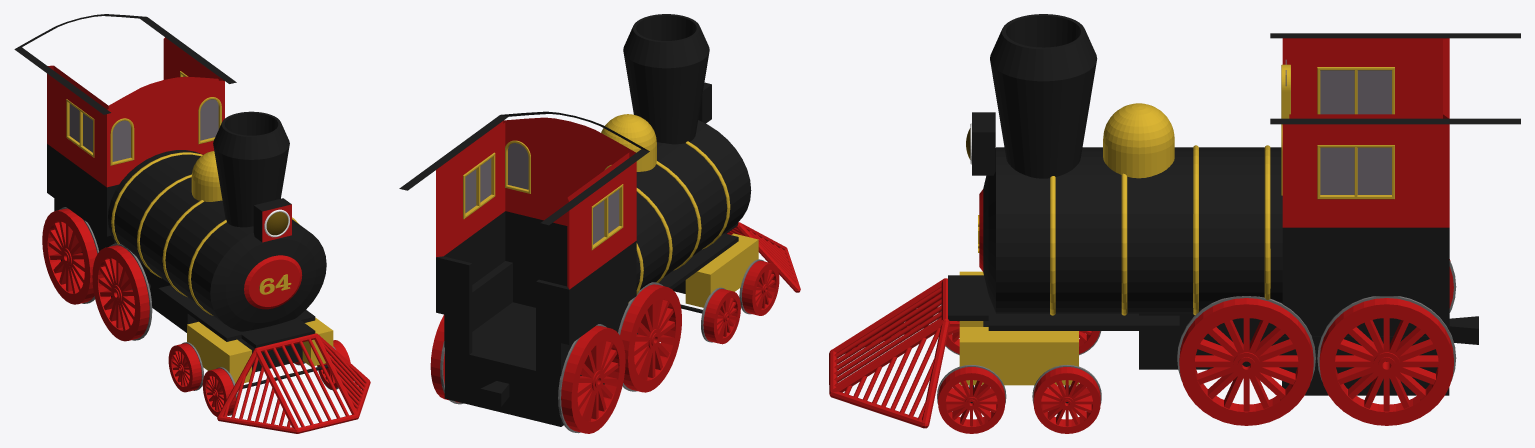
File: Engine.obj
3 views of the same model, side by side, from view 1: azimuth 30°, elevation 25°; view 2: azimuth 150°, elevation 25°; view 3: azimuth 270°, elevation 25° (orthographic). The views are drawn at different scales.
Visible parts, largest first — view 1: DarkMetal, Cabin, RedMetal, Gold, WheelBig1, WheelBig2, TurnGold, Glass, Roof, WheelSmall1, WheelSmall2, TurnDark (+2 smaller); view 2: DarkMetal, Cabin, WheelBig2, Gold, WheelBig1, Glass, TurnGold, Roof, WheelSmall1, WheelSmall2, RedMetal, RimBig2; view 3: DarkMetal, Cabin, WheelBig2, WheelBig1, Gold, RedMetal, Glass, TurnGold, WheelSmall1, WheelSmall2, Roof, RimBig2 (+1 smaller).
Boxes of the visible parts, x1=… form: DarkMetal: x1=47, y1=111, x2=326, y2=348; Cabin: x1=47, y1=37, x2=224, y2=187; RedMetal: x1=217, y1=204, x2=370, y2=433; Gold: x1=66, y1=71, x2=299, y2=315; WheelBig1: x1=92, y1=245, x2=149, y2=341; WheelBig2: x1=42, y1=208, x2=97, y2=304; TurnGold: x1=187, y1=317, x2=333, y2=383; Glass: x1=69, y1=76, x2=218, y2=161; Roof: x1=14, y1=14, x2=236, y2=114; WheelSmall1: x1=202, y1=340, x2=350, y2=416; WheelSmall2: x1=168, y1=343, x2=305, y2=392; TurnDark: x1=237, y1=338, x2=328, y2=388; DarkMetal: x1=436, y1=14, x2=751, y2=426; Cabin: x1=436, y1=117, x2=636, y2=289; WheelBig2: x1=430, y1=315, x2=625, y2=433; Gold: x1=463, y1=114, x2=730, y2=302; WheelBig1: x1=620, y1=284, x2=681, y2=392; Glass: x1=465, y1=143, x2=619, y2=244; TurnGold: x1=685, y1=233, x2=758, y2=307; Roof: x1=399, y1=111, x2=649, y2=225; WheelSmall1: x1=742, y1=260, x2=779, y2=315; WheelSmall2: x1=703, y1=289, x2=740, y2=344; RedMetal: x1=727, y1=222, x2=800, y2=292; RimBig2: x1=440, y1=324, x2=606, y2=433; DarkMetal: x1=948, y1=14, x2=1478, y2=395; Cabin: x1=1282, y1=38, x2=1449, y2=227; WheelBig2: x1=1319, y1=259, x2=1453, y2=425; WheelBig1: x1=1179, y1=298, x2=1313, y2=425; Gold: x1=978, y1=64, x2=1394, y2=315; RedMetal: x1=829, y1=189, x2=983, y2=428; Glass: x1=1285, y1=59, x2=1391, y2=194; TurnGold: x1=959, y1=271, x2=1078, y2=385; WheelSmall1: x1=938, y1=312, x2=1005, y2=433; WheelSmall2: x1=1033, y1=331, x2=1100, y2=433; Roof: x1=1270, y1=33, x2=1520, y2=124; RimBig2: x1=1317, y1=260, x2=1456, y2=381.
Size of the model in its own units: 41.4 by 66.69 by 116.
9 materials, 9 textured.
